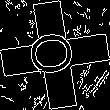O_E: (26, 30, 84, 80)
